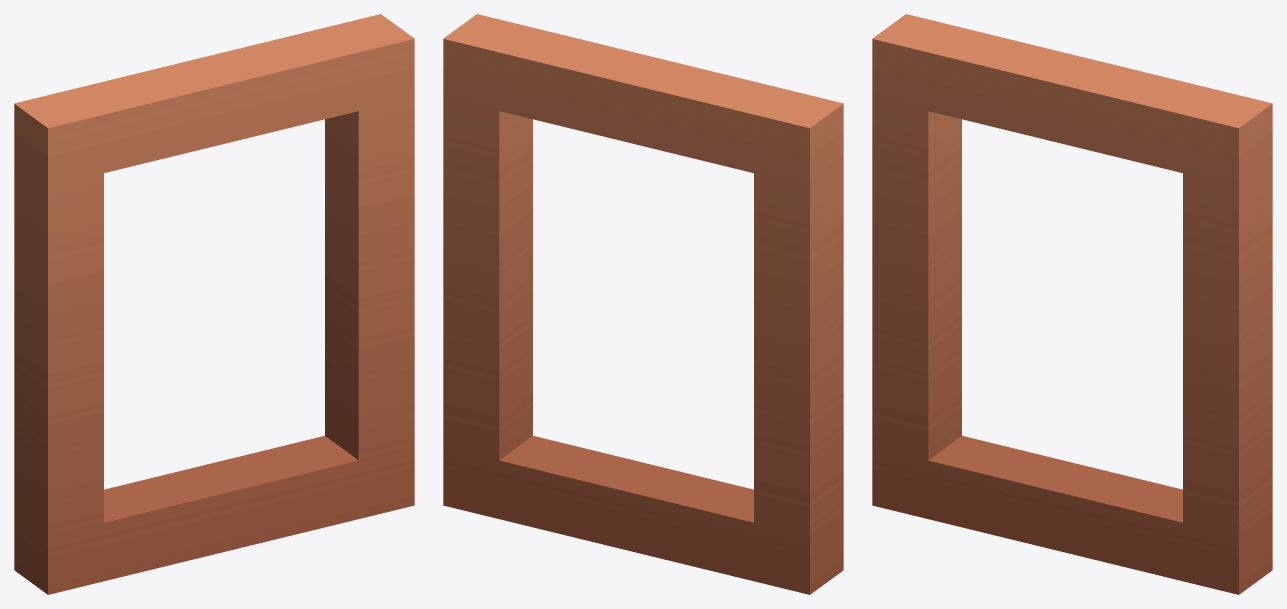
The picture shows the model from 3 angles, left to right: view 1: azimuth 30°, elevation 25°; view 2: azimuth 150°, elevation 25°; view 3: azimuth 330°, elevation 25°; orthographic projection.
Parts seen in each view (by area): view 1: window-brown; view 2: window-brown; view 3: window-brown.
Boxes of the visible parts, <box> form: window-brown: <box>14,14,414,594</box>; window-brown: <box>443,14,843,594</box>; window-brown: <box>872,14,1272,594</box>.
Bounding box in the file's own units: 0.3125 × 0.38 × 0.05.
Materials: 1 (1 with a texture image).
